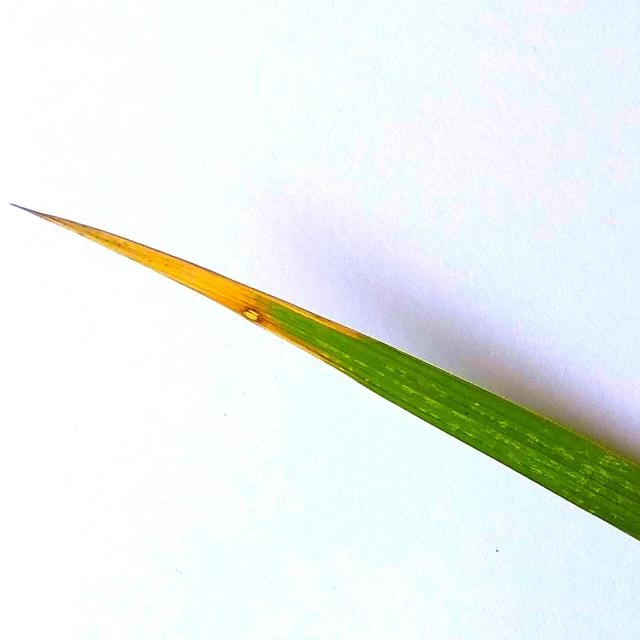Leaf blast: (0, 163, 640, 550)
